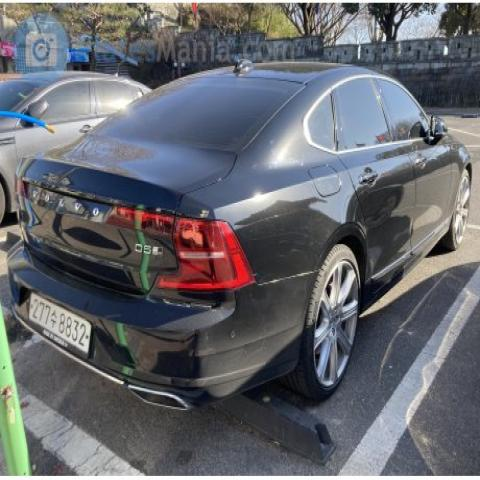LP: (21, 282, 100, 368)
